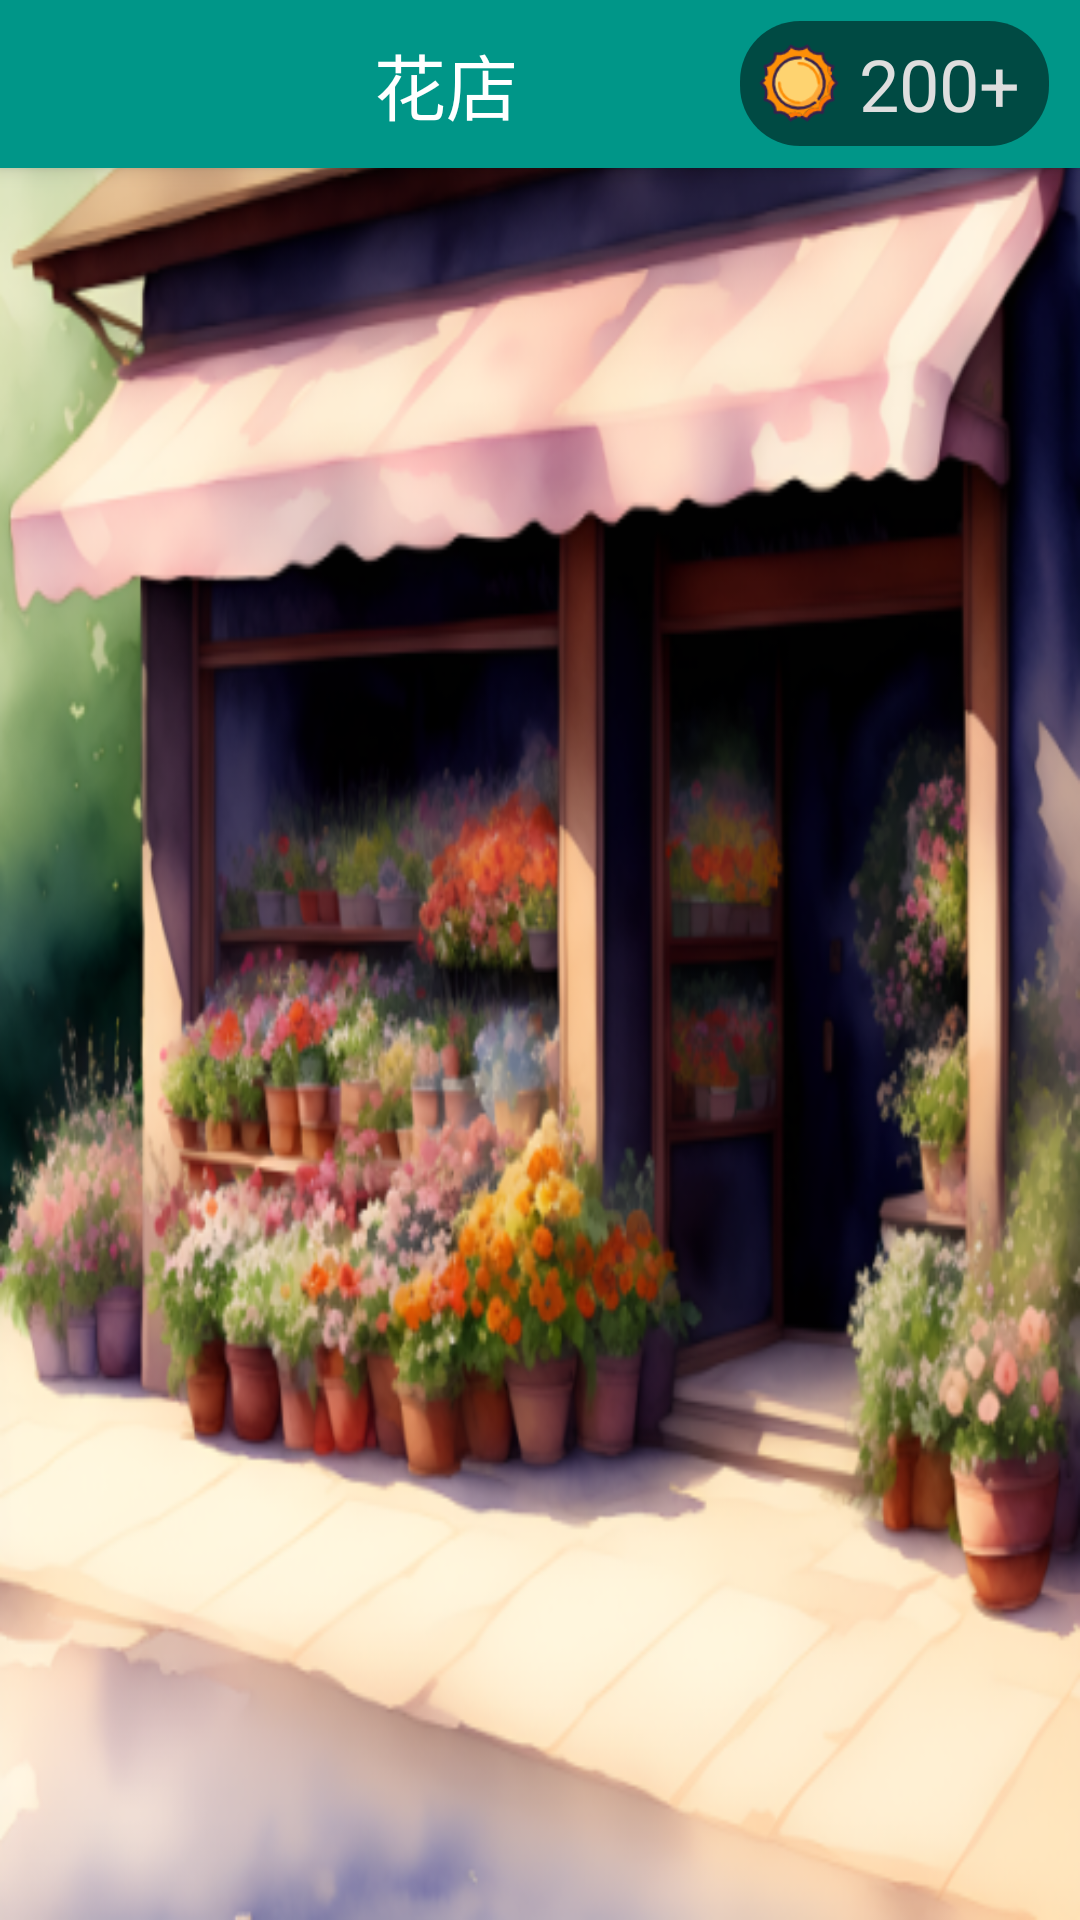

Icon bounding boxes for this 1080*1920 phone screenshot, format (left=x1, top=y1, right=x2, bottom=y2):
sun: (left=760, top=45, right=838, bottom=121)
